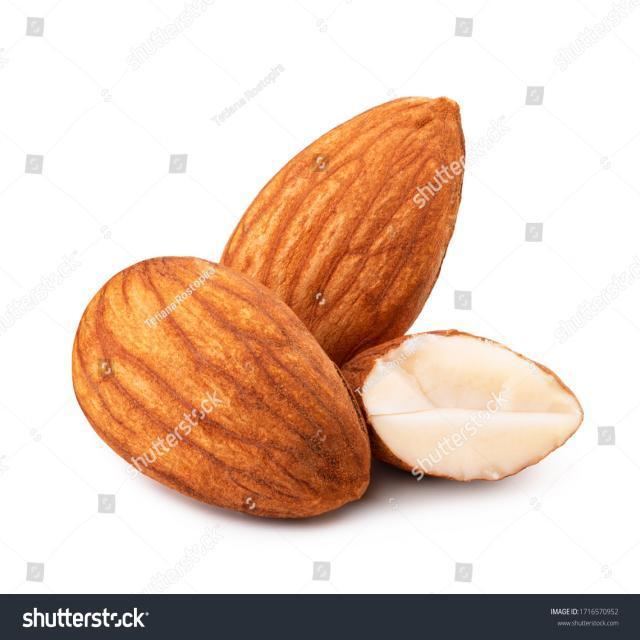almond: (71, 252, 379, 520), (204, 93, 469, 349)
